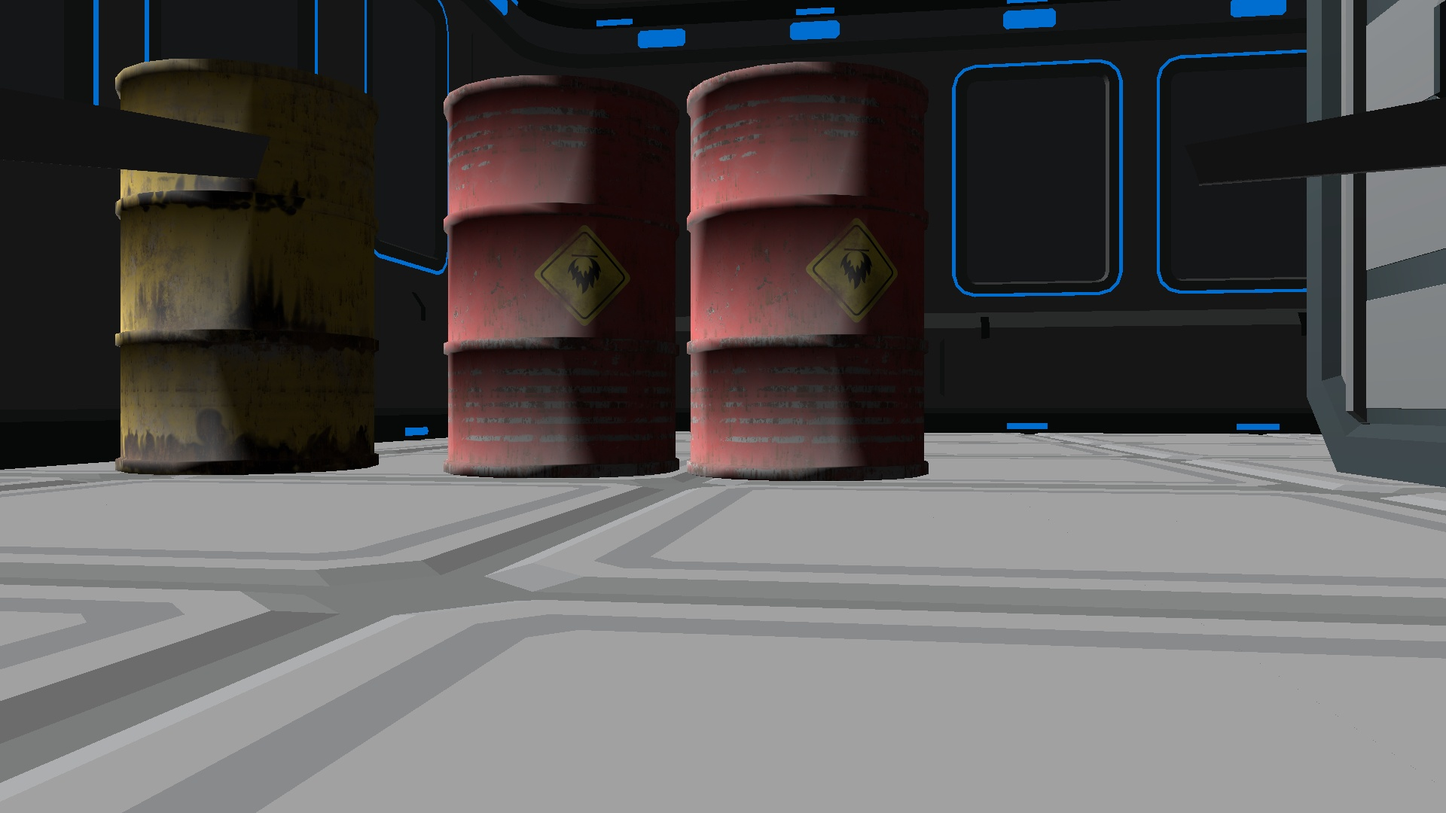toxic barrel: (114, 58, 378, 475), (686, 62, 929, 482), (443, 75, 680, 479)
